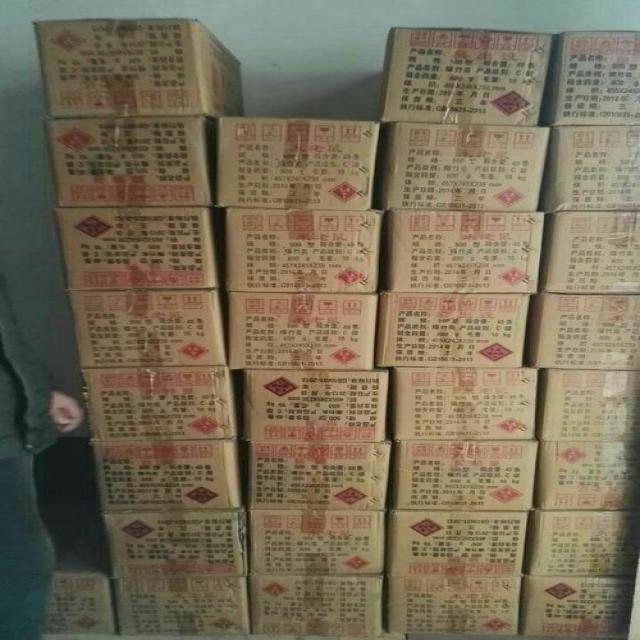box: (31, 17, 248, 117), (34, 113, 220, 205), (216, 110, 386, 210), (384, 31, 560, 124), (384, 124, 552, 212), (220, 203, 390, 289), (52, 204, 221, 288), (384, 205, 540, 294), (65, 290, 231, 372), (226, 286, 384, 368), (78, 364, 242, 442), (378, 290, 538, 368), (89, 446, 255, 516), (240, 368, 398, 439), (105, 501, 248, 579), (393, 368, 543, 442), (384, 503, 532, 578), (242, 439, 394, 512), (244, 504, 393, 578), (395, 437, 543, 510), (381, 574, 528, 640), (113, 574, 253, 640), (248, 575, 392, 639), (546, 27, 640, 125), (530, 289, 640, 368), (542, 121, 640, 209), (540, 209, 640, 293), (521, 573, 640, 640), (536, 439, 640, 513), (530, 508, 640, 577), (542, 367, 640, 442)
